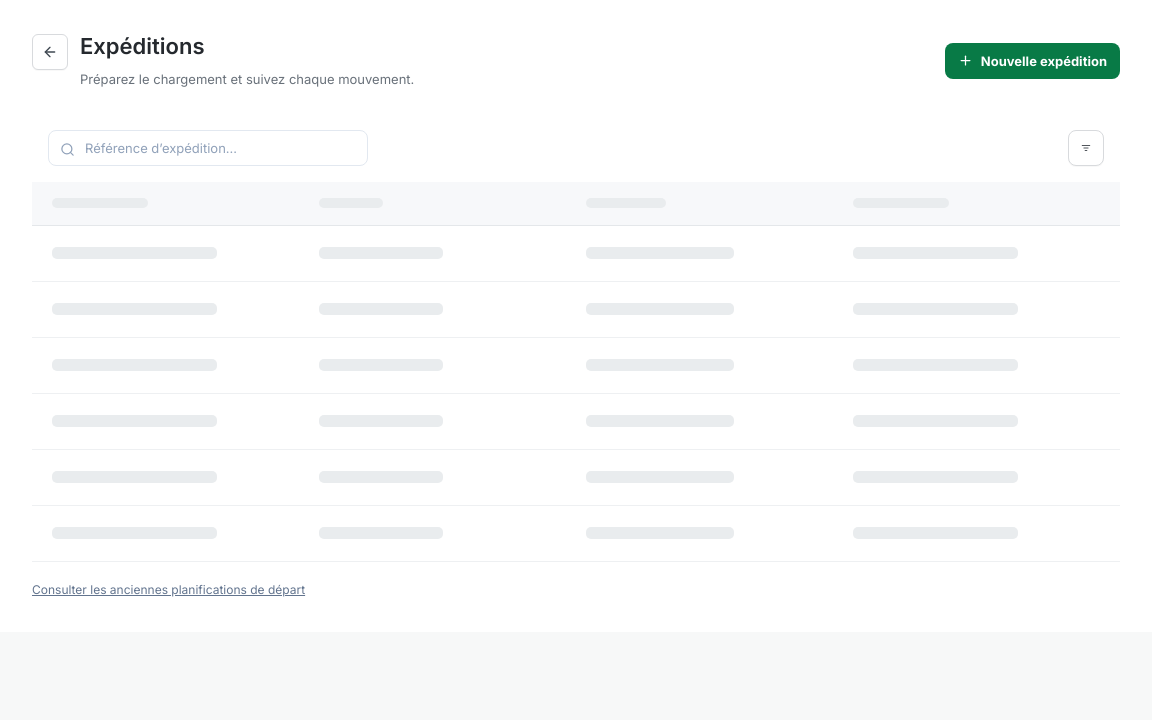
Scenario: Registre Expéditions fret › clears a stale service selection when the origin changes
The width and height of the screenshot is (1152, 720).
Step 1. Click the button "Nouvelle expédition" → (1032, 61), box [945,43,1120,79]
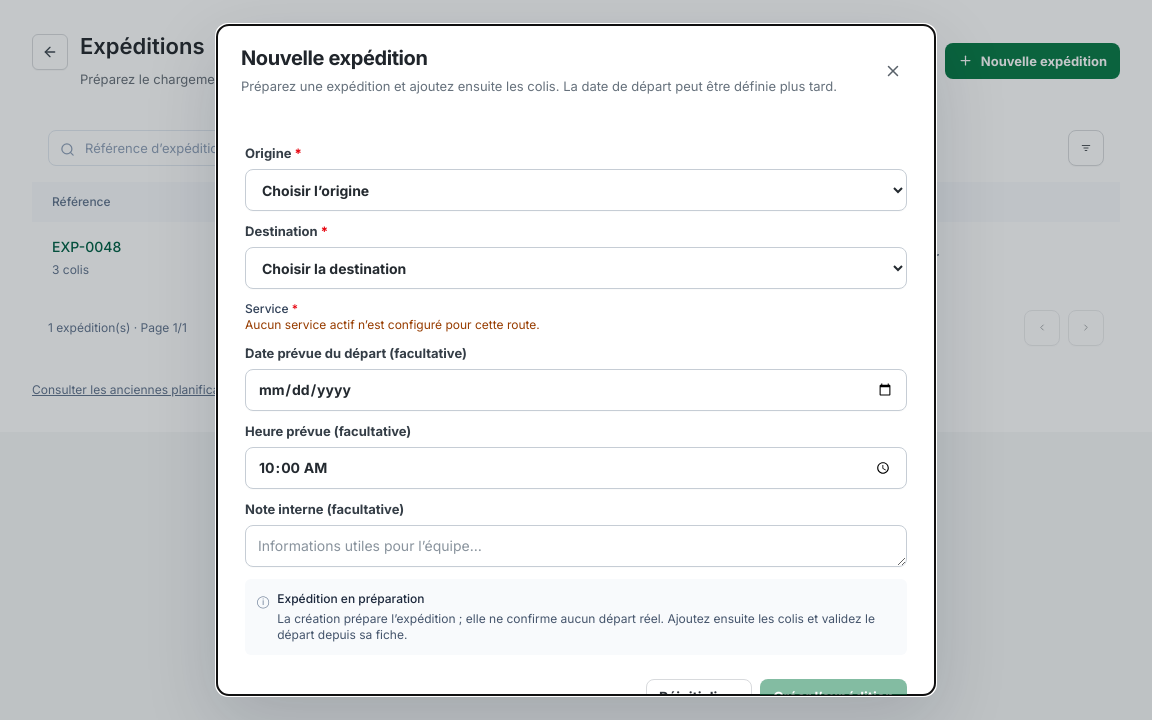
Step 2. Select "Guangzhou, CN" in the dropdown labelled "Origine *" → (576, 190), box [245,169,907,211]
Step 3. Select "Kinshasa, CD · Chine RDC aérien" in the dropdown labelled "Destination *" → (576, 268), box [245,247,907,289]
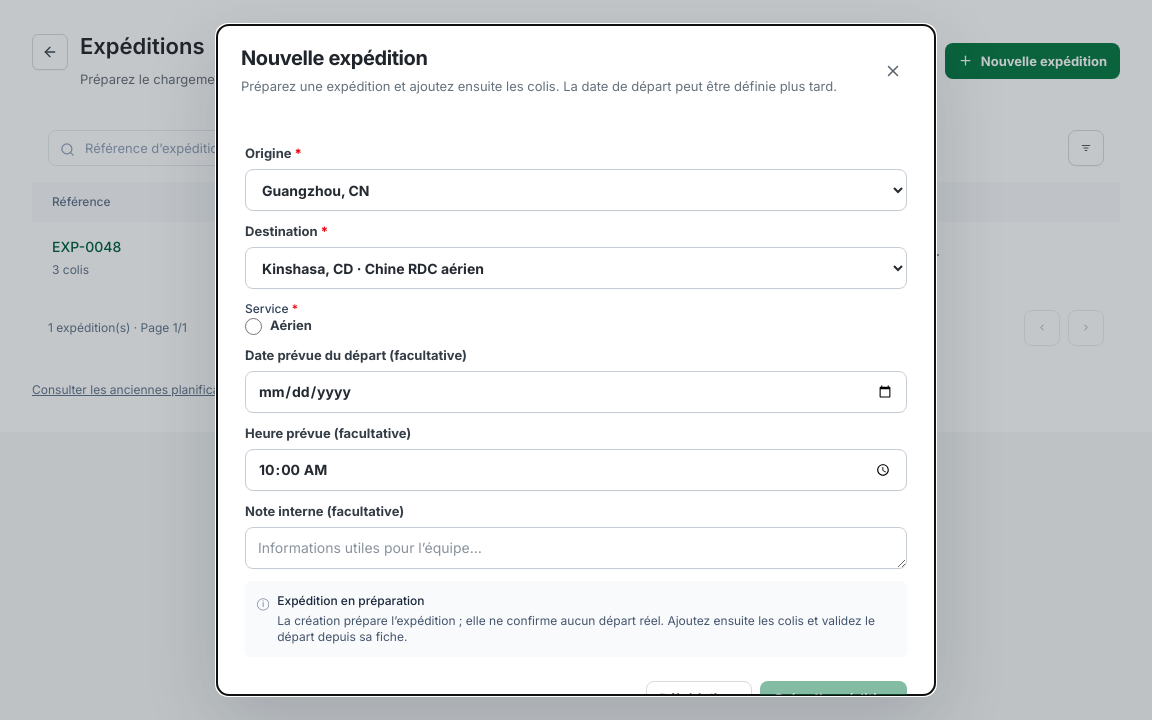
Step 4. Click the radio button labelled "Aérien" → (254, 326), box [245,318,262,334]
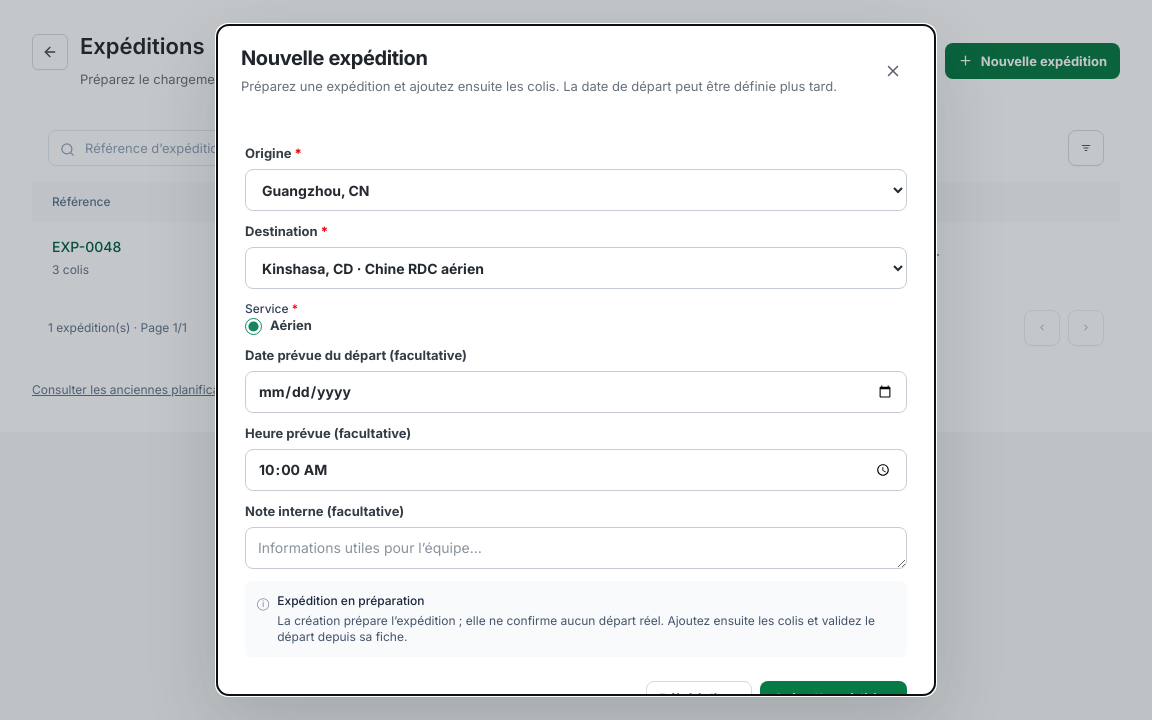
Step 5. Select "Choisir l’origine" in the dropdown labelled "Origine *" → (576, 190), box [245,169,907,211]
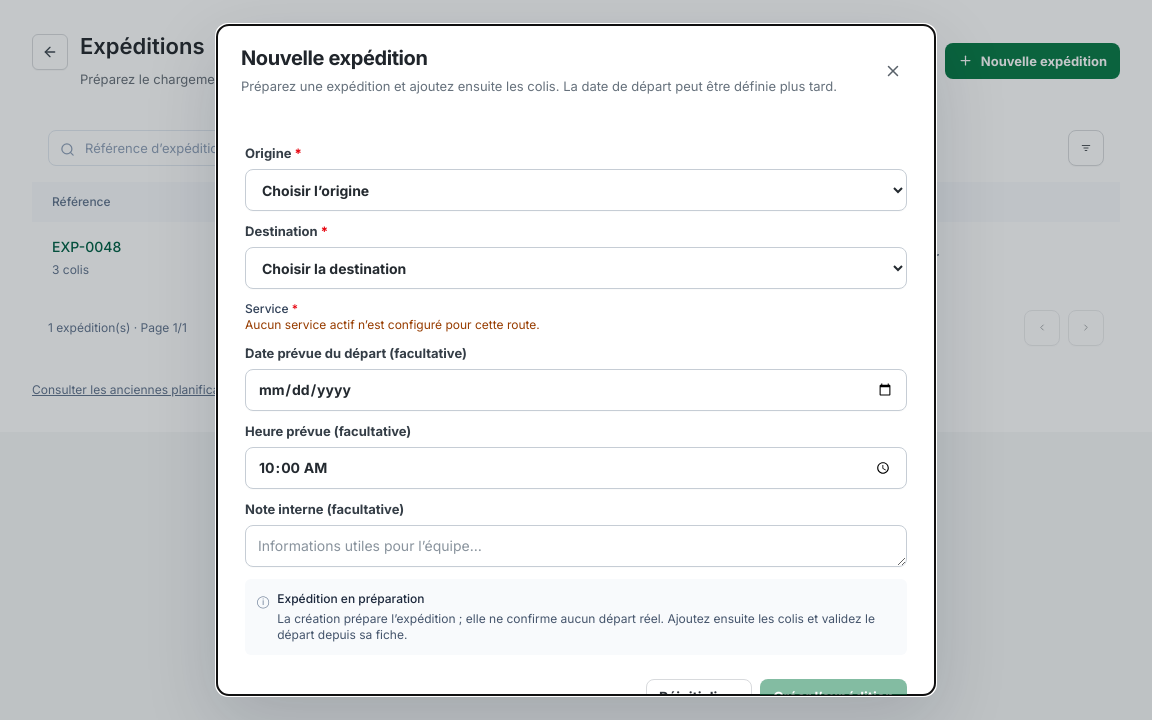
Step 6. Select "Guangzhou, CN" in the dropdown labelled "Origine *" → (576, 190), box [245,169,907,211]
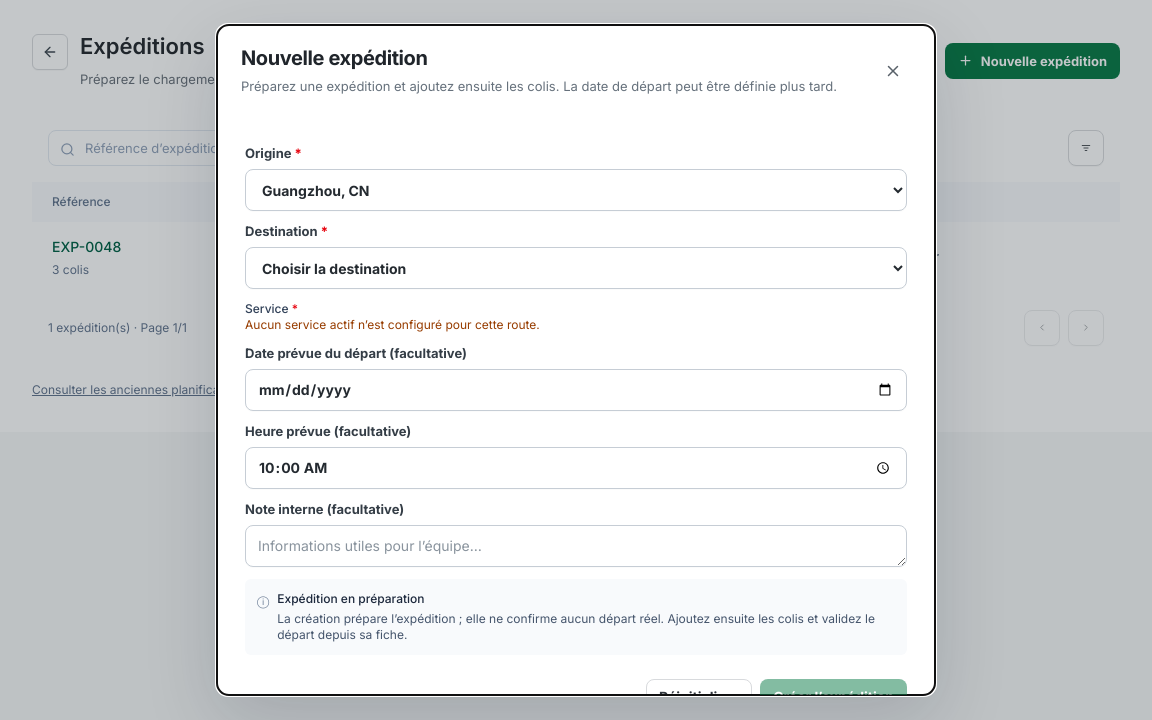
Step 7. Select "Kinshasa, CD · Chine RDC aérien" in the dropdown labelled "Destination *" → (576, 268), box [245,247,907,289]
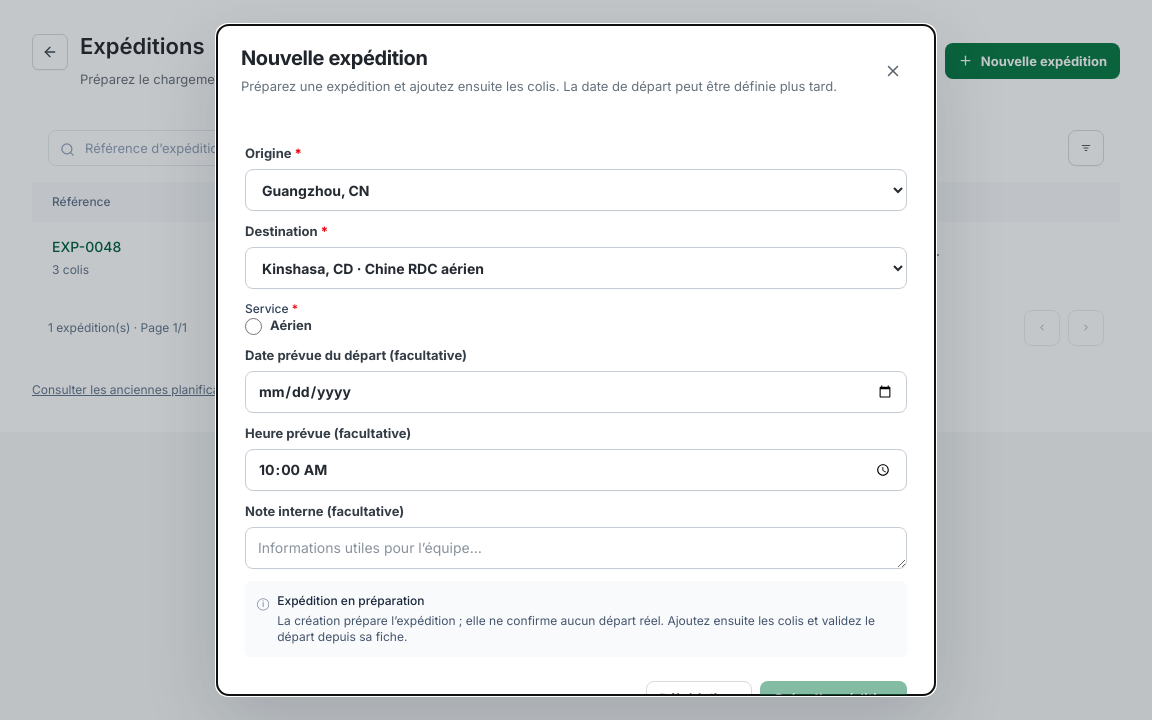
Expected: the radio button labelled "Aérien" is not checked, [245,318,262,334]
